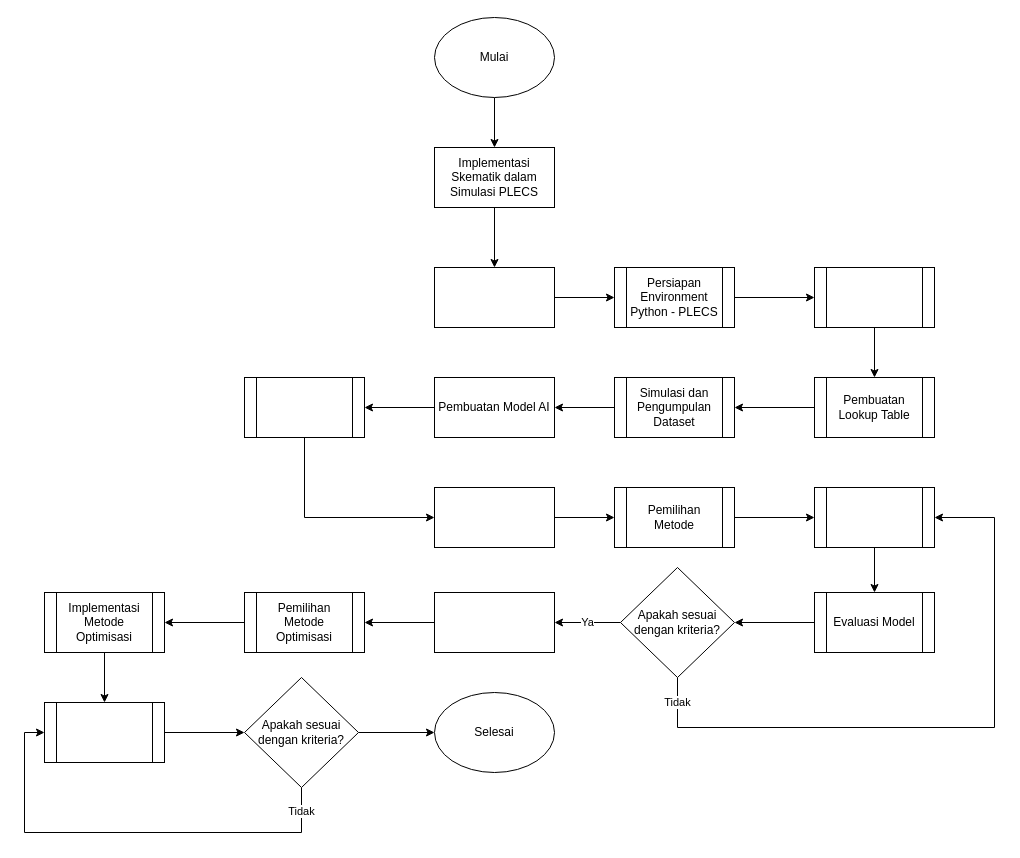
Image size: 1020x858. Some labels were removed from this diagram. Each missing label, with the centre of its shape:
Metode Optimisasi: the point at 494,622
Model Machine Learning: the point at 494,517
Pembuatan Dataset: the point at 494,297
Pengaturan Parameter Komponen: the point at 874,297
Pengaturan Parameter Metode Optimisasi: the point at 104,732
Persiapan Dataset: the point at 304,407
Proses Pelatihan: the point at 874,517
